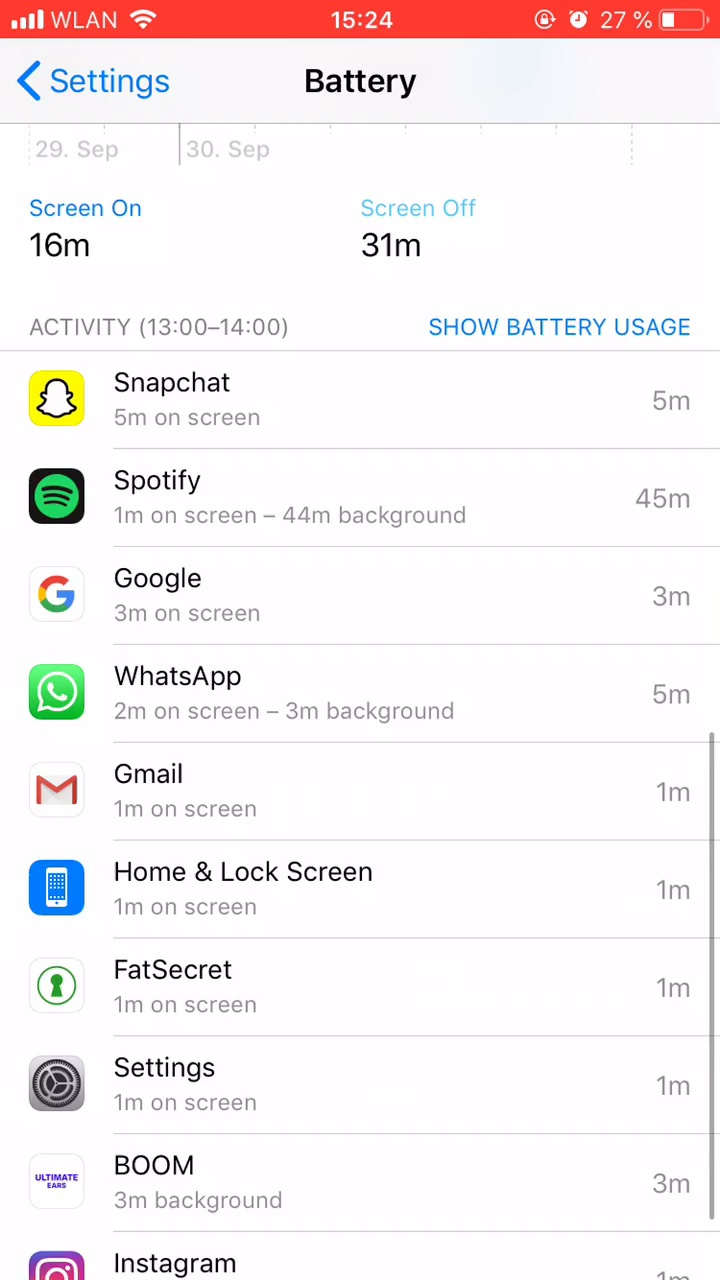activity: (28, 296, 312, 343)
app: (26, 366, 702, 434), (27, 464, 703, 532), (23, 562, 699, 630), (21, 664, 697, 732), (26, 755, 702, 823), (24, 853, 700, 921), (28, 951, 704, 1019), (31, 1055, 707, 1123), (25, 1153, 701, 1221)
